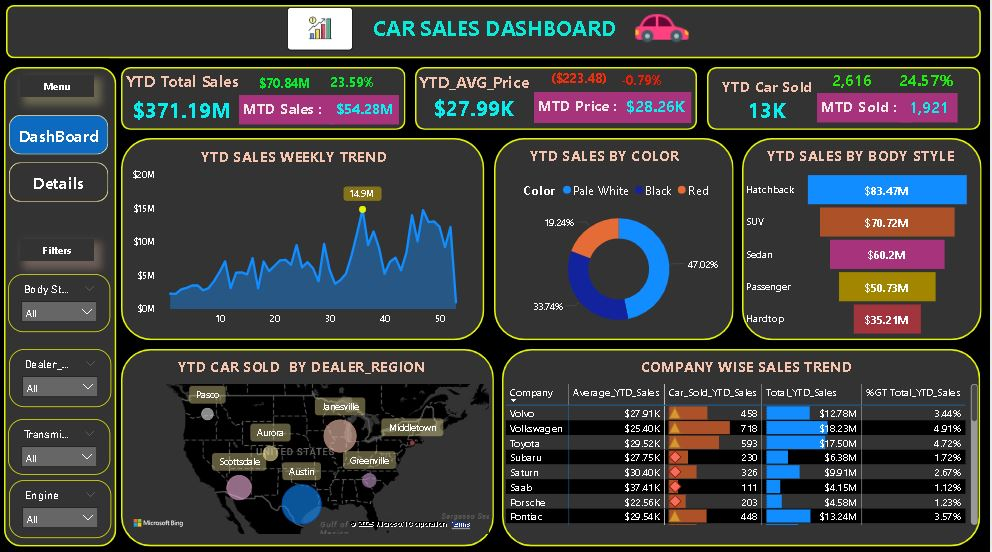

What the dashboard file says about the page in this screenshot:
{"tool":"powerbi","page":{"name":"DashBoard","canvas":[1280,720],"ordinal":1},"visuals":[{"type":"group","id":"g1","title":"Group 1","box":[7.5,10,1261.9,698.8],"z":0},{"type":"shape","box":[7.5,90,145,618.8],"z":0,"group":"g1"},{"type":"shape","box":[10,10,1257.8,68.8],"z":1000,"group":"g1"},{"type":"card","title":"YTD Total Sales","fields":{"Values":["All_Measure.Total_YTD_Sales"]},"box":[159.3,93.3,158,78.7],"z":1000},{"type":"card","fields":{"Values":["All_Measure.Total_MTD_Sales"]},"box":[429,126,88.5,37.5],"z":2000},{"type":"shape","box":[158.4,89.7,367.2,81.2],"z":3000,"group":"g1"},{"type":"textbox","box":[311,126,124,37.5],"z":3000},{"type":"card","fields":{"Values":["All_Measure.Total_Diffrence"]},"box":[327.1,91.4,82.9,41.4],"z":4000},{"type":"card","box":[200.7,202.4,255.3,201.3],"z":4000,"group":"g1"},{"type":"shape","box":[538.1,89.7,364.1,81.2],"z":5000,"group":"g1"},{"type":"card","fields":{"Values":["All_Measure.% Diffrence"]},"box":[411.2,96.2,91.2,26.2],"z":5000},{"type":"shape","box":[914.7,89.7,353.1,81.2],"z":6000,"group":"g1"},{"type":"card","title":"YTD_AVG_Price","fields":{"Values":["All_Measure.Average_YTD_Sales"]},"box":[538.6,94.3,152.9,72.9],"z":6000},{"type":"card","fields":{"Values":["All_Measure.Average_MTD_Sales"]},"box":[803,122,92,40],"z":7000},{"type":"shape","box":[158.4,181.9,468.8,260.9],"z":7000,"group":"g1"},{"type":"textbox","box":[692,122,120,40],"z":8000},{"type":"shape","box":[158.4,453.8,481.2,254.7],"z":8000,"group":"g1"},{"type":"card","fields":{"Values":["All_Measure.% Diffrence_Avg"]},"box":[791.3,92,77.5,32.5],"z":9000,"group":"g1"},{"type":"card","fields":{"Values":["All_Measure.Total_Diffrence_avg"]},"box":[696.2,91.2,106.9,30.6],"z":9000},{"type":"card","title":"YTD Car Sold","fields":{"Values":["All_Measure.Car_Sold_YTD_Sales"]},"box":[927.5,102.5,130,65],"z":10000},{"type":"shape","box":[650.6,453.8,617.2,254.7],"z":10000,"group":"g1"},{"type":"card","fields":{"Values":["All_Measure.car_sold_MTD_Sales"]},"box":[1165.8,123.7,73.2,38.4],"z":11000},{"type":"shape","box":[639.7,181.9,309.4,260.9],"z":11000,"group":"g1"},{"type":"textbox","box":[1057.4,123.7,121.6,38.4],"z":12000},{"type":"shape","box":[960,181.9,309.4,260.9],"z":12000,"group":"g1"},{"type":"card","fields":{"Values":["All_Measure.Total_Diffrence_car_sold"]},"box":[1057.5,95,87.5,26.9],"z":13000},{"type":"areaChart","fields":{"Category":["Calender_Table.WeekNum"],"Y":["All_Measure.Total_Sales","All_Measure.Max Point"]},"box":[165.1,215.8,455,216.2],"z":13000,"group":"g1"},{"type":"card","fields":{"Values":["All_Measure.% Diffrence_Car_sold"]},"box":[1156.2,93.8,82.5,28.1],"z":14000},{"type":"textbox","box":[257.3,188,274.7,34.7],"z":15000},{"type":"funnel","fields":{"Category":["car_data.Body Style"],"Y":["All_Measure.Total_YOY_Sales"]},"box":[960,220,300,222.9],"z":16000},{"type":"donutChart","fields":{"Category":["car_data.Color"],"Y":["All_Measure.Total_YTD_Sales"]},"box":[651.4,227.1,298.6,215.7],"z":17000},{"type":"textbox","box":[681.2,187.5,213.8,40],"z":18000},{"type":"textbox","box":[987.5,187.5,262.5,35],"z":19000},{"type":"map","fields":{"Category":["car_data.Dealer_Region"],"Size":["All_Measure.Total_YTD_Sales"]},"box":[165.6,494.4,474.4,204.4],"z":20000},{"type":"pivotTable","fields":{"Rows":["car_data.Company"],"Values":["All_Measure.Average_YTD_Sales","All_Measure.Car_Sold_YTD_Sales","All_Measure.Total_YTD_Sales","Divide(All_Measure.Total_YTD_Sales, ScopedEval(All_Measure.Total_YTD_Sales, []))"]},"box":[650.6,494.5,618.8,192.3],"z":21000},{"type":"textbox","box":[227,459.8,352.8,34.7],"z":22000},{"type":"textbox","box":[824.1,459.8,308,34.7],"z":23000},{"type":"textbox","box":[473.8,15,333.8,60],"z":24000},{"type":"slicer","fields":{"Values":["car_data.Body Style"]},"box":[13,357.1,131.6,75.2],"z":25000},{"type":"slicer","fields":{"Values":["car_data.Dealer_Name"]},"box":[14.5,454,131.6,75.2],"z":26000},{"type":"slicer","fields":{"Values":["car_data.Transmission"]},"box":[13,545.1,131.6,72.3],"z":27000},{"type":"slicer","fields":{"Values":["car_data.Engine"]},"box":[14.5,623.1,131.6,75.2],"z":28000},{"type":"textbox","box":[28.9,312.3,95.4,28.9],"z":29000},{"type":"textbox","box":[28.8,101.2,95,28.8],"z":30000},{"type":"pageNavigator","box":[14.5,151.8,128.7,112.8],"z":31000},{"type":"image","box":[373,12.9,85.3,56.4],"z":31001},{"type":"image","box":[813.5,15.8,85.3,50.6],"z":31002,"group":"g1"}]}

Visuals, with their boxes in screenshot pixels (x1, y1, x2, y2), scaled from the page's 1280x720 canvas onto the 992x552 screenshot:
"Group 1" group: (left=6, top=8, right=984, bottom=543)
shape: (left=6, top=69, right=118, bottom=543)
shape: (left=8, top=8, right=983, bottom=60)
"YTD Total Sales" card: (left=123, top=72, right=246, bottom=132)
card - All_Measure.Total_MTD_Sales: (left=332, top=97, right=401, bottom=125)
shape: (left=123, top=69, right=407, bottom=131)
textbox: (left=241, top=97, right=337, bottom=125)
card - All_Measure.Total_Diffrence: (left=254, top=70, right=318, bottom=102)
card: (left=156, top=155, right=353, bottom=310)
shape: (left=417, top=69, right=699, bottom=131)
card - All_Measure.% Diffrence: (left=319, top=74, right=389, bottom=94)
shape: (left=709, top=69, right=983, bottom=131)
"YTD_AVG_Price" card: (left=417, top=72, right=536, bottom=128)
card - All_Measure.Average_MTD_Sales: (left=622, top=94, right=694, bottom=124)
shape: (left=123, top=139, right=486, bottom=339)
textbox: (left=536, top=94, right=629, bottom=124)
shape: (left=123, top=348, right=496, bottom=543)
card - All_Measure.% Diffrence_Avg: (left=613, top=71, right=673, bottom=95)
card - All_Measure.Total_Diffrence_avg: (left=540, top=70, right=622, bottom=93)
"YTD Car Sold" card: (left=719, top=79, right=820, bottom=128)
shape: (left=504, top=348, right=983, bottom=543)
card - All_Measure.car_sold_MTD_Sales: (left=903, top=95, right=960, bottom=124)
shape: (left=496, top=139, right=736, bottom=339)
textbox: (left=819, top=95, right=914, bottom=124)
shape: (left=744, top=139, right=984, bottom=339)
card - All_Measure.Total_Diffrence_car_sold: (left=820, top=73, right=887, bottom=93)
areaChart - Calender_Table.WeekNum x All_Measure.Total_Sales: (left=128, top=165, right=481, bottom=331)
card - All_Measure.% Diffrence_Car_sold: (left=896, top=72, right=960, bottom=93)
textbox: (left=199, top=144, right=412, bottom=171)
funnel - car_data.Body Style x All_Measure.Total_YOY_Sales: (left=744, top=169, right=976, bottom=340)
donutChart - car_data.Color x All_Measure.Total_YTD_Sales: (left=505, top=174, right=736, bottom=339)
textbox: (left=528, top=144, right=694, bottom=174)
textbox: (left=765, top=144, right=969, bottom=171)
map - car_data.Dealer_Region x All_Measure.Total_YTD_Sales: (left=128, top=379, right=496, bottom=536)
pivotTable - car_data.Company x All_Measure.Average_YTD_Sales: (left=504, top=379, right=984, bottom=527)
textbox: (left=176, top=353, right=449, bottom=379)
textbox: (left=639, top=353, right=877, bottom=379)
textbox: (left=367, top=12, right=626, bottom=58)
slicer - car_data.Body Style: (left=10, top=274, right=112, bottom=331)
slicer - car_data.Dealer_Name: (left=11, top=348, right=113, bottom=406)
slicer - car_data.Transmission: (left=10, top=418, right=112, bottom=473)
slicer - car_data.Engine: (left=11, top=478, right=113, bottom=535)
textbox: (left=22, top=239, right=96, bottom=262)
textbox: (left=22, top=78, right=96, bottom=100)
pageNavigator: (left=11, top=116, right=111, bottom=203)
image: (left=289, top=10, right=355, bottom=53)
image: (left=630, top=12, right=697, bottom=51)
